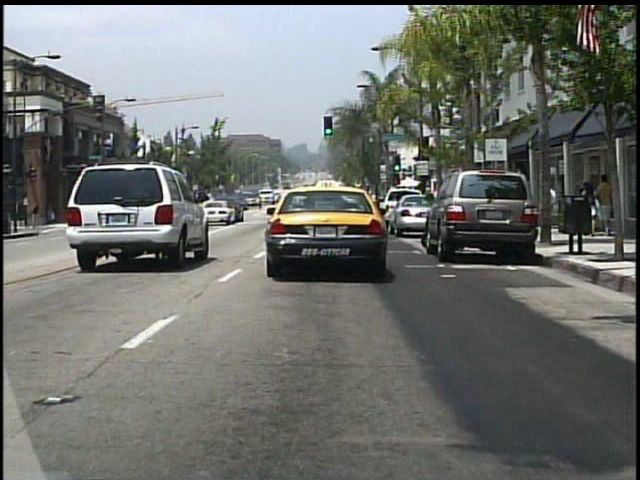person: (597, 172, 618, 236), (582, 180, 601, 240)
